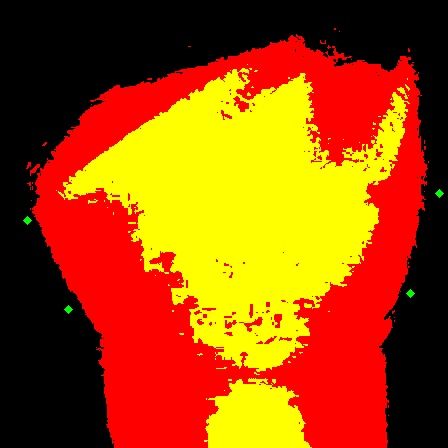coin_1: (68, 309, 88, 329)
coin_2: (27, 220, 47, 240)
coin_3: (410, 293, 430, 313)
coin_4: (439, 193, 448, 213)
